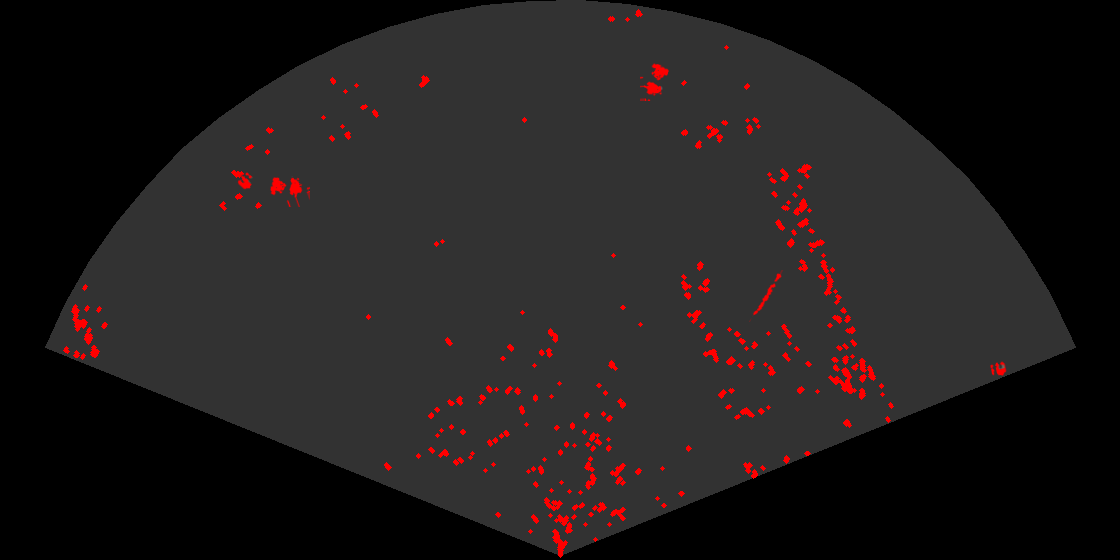ball: (236, 171, 254, 191), (989, 360, 1008, 377)
cage: (269, 176, 310, 207), (640, 62, 670, 101)
chain: (749, 270, 785, 322)
